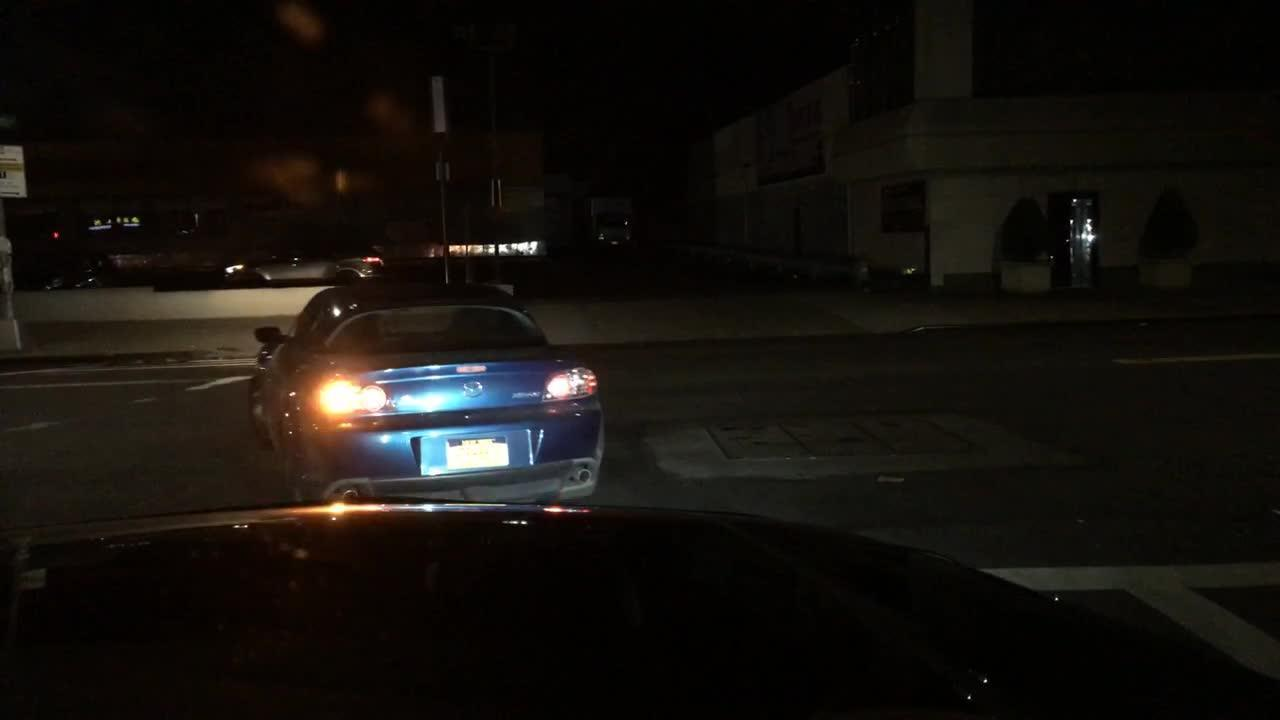Mazda: (460, 379, 484, 401)
